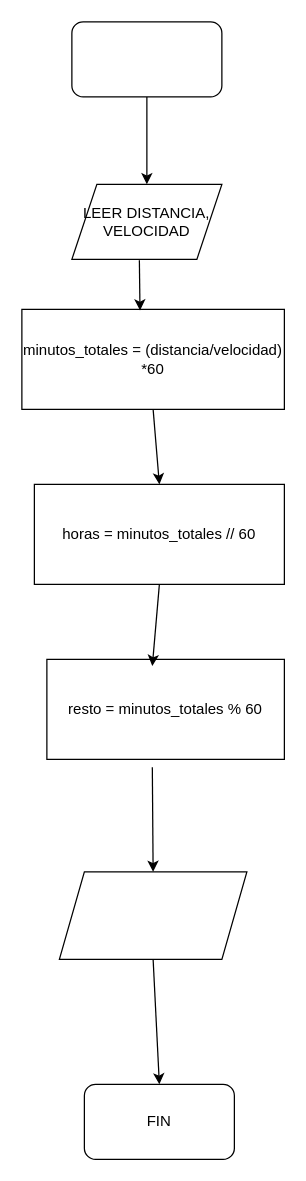
Some shapes in this 306 by 1181 pixel diagram are drawn without their labels. The shapes that lost their labels are listed below. From the top down, each one's centre as x and y in pixels, then its label:
At (146,59): "INICIO".
At (152,915): "ESCRIBIR HORAS,RESTO".
